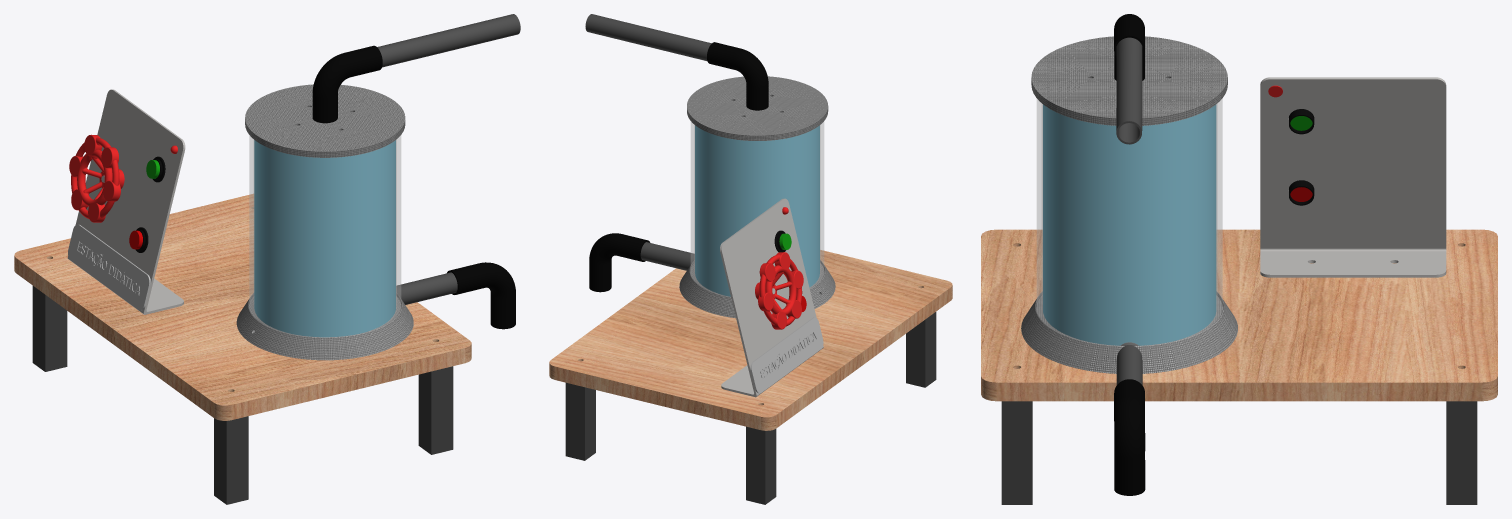
The model's file is MODELO_ALUNO.glb.
The picture shows the model from 3 angles, left to right: view 1: azimuth 30°, elevation 25°; view 2: azimuth 150°, elevation 25°; view 3: azimuth 270°, elevation 25°; orthographic projection. The views are drawn at different scales.
Visible parts, largest first — view 1: Solid1 (×15); view 2: Solid1 (×15); view 3: Solid1 (×12).
Boxes of the visible parts, x1,y1,x2,y2 form: Solid1 (×15): (14, 14, 520, 504); Solid1 (×15): (549, 14, 952, 504); Solid1 (×12): (981, 14, 1497, 504).
Size of the model in its own units: 0.4862 by 0.485 by 0.5.
Materials: 15 (2 with a texture image).
